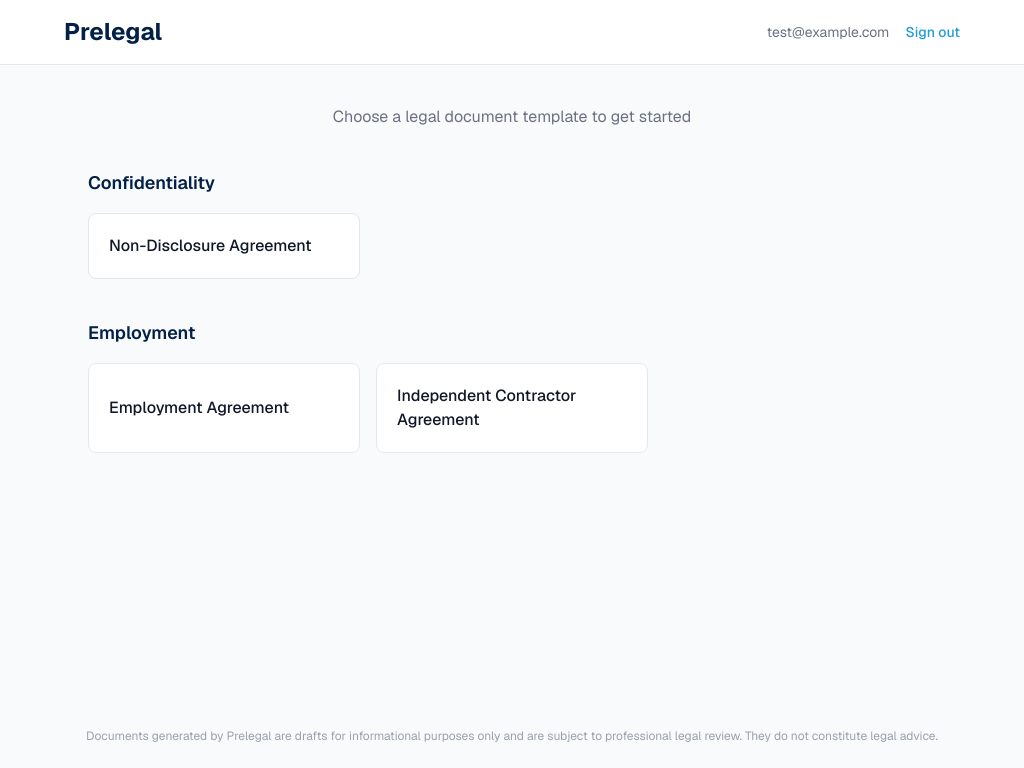
Scenario: TemplateSelector › disables all cards while loading a template
Check: the heading "Non-Disclosure Agreement" is shown, box [109,234,339,258]
Click the button "Non-Disclosure Agreement" at (224, 246), box [88,213,360,279]
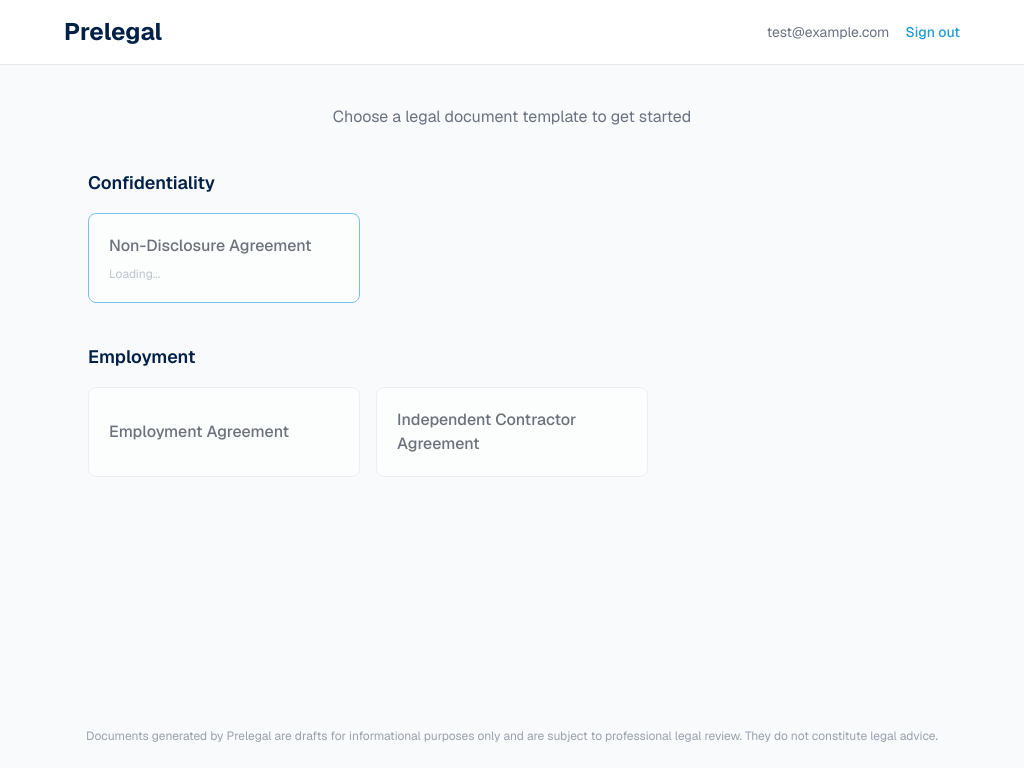
Check: the button "Non-Disclosure Agreement Loading..." is disabled, box [88,213,360,303]
Check: the button "Employment Agreement" is disabled, box [88,387,360,477]
Check: the button "Independent Contractor Agreement" is disabled, box [376,387,648,477]
